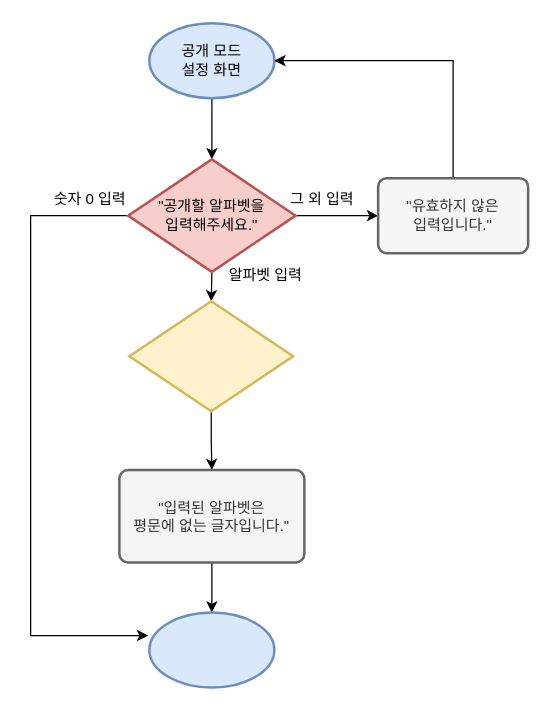
Image size: 551x710. Some labels were removed from this diagram. Here are the shapes that lost their labels. From the top down, the centre of each, then its label:
At [211,355]: "입력된 알파벳이 평문 내에 있는가?".
At [211,649]: "다음 화면으로 넘어감".
